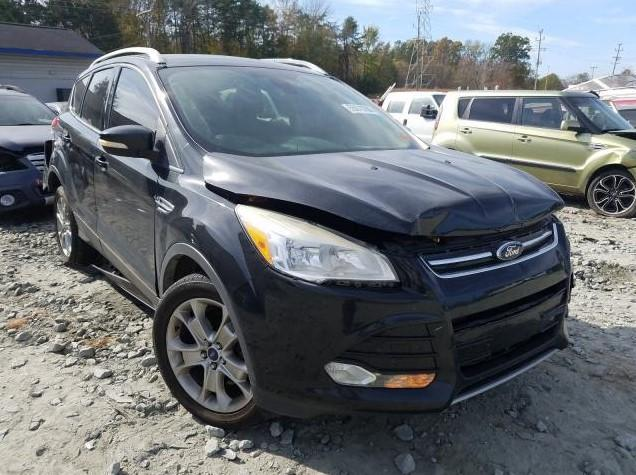Back-bumper: (42, 142, 57, 190)
Back-door: (56, 64, 117, 238)
Back-wheel: (53, 185, 101, 267)
Back-window: (70, 67, 115, 131)
Fender: (155, 142, 267, 297)
Front-bumper: (221, 226, 577, 418)
Front-door: (93, 62, 169, 293)
Front-wheel: (154, 271, 262, 428)
Front-window: (108, 66, 182, 171)
Grille: (445, 270, 569, 399), (420, 222, 559, 278)
Headlight: (234, 201, 399, 287)
Hood: (201, 146, 563, 239)
Mirror: (98, 125, 169, 174)
Quarter-panel: (48, 111, 69, 167)
Rocker-panel: (74, 210, 159, 308)
Roof: (77, 53, 319, 78)
Tail-light: (51, 117, 60, 135)
Windshield: (158, 65, 423, 156)
